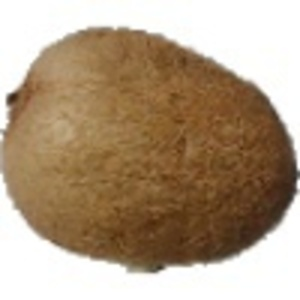kiwi: (1, 1, 300, 277)
